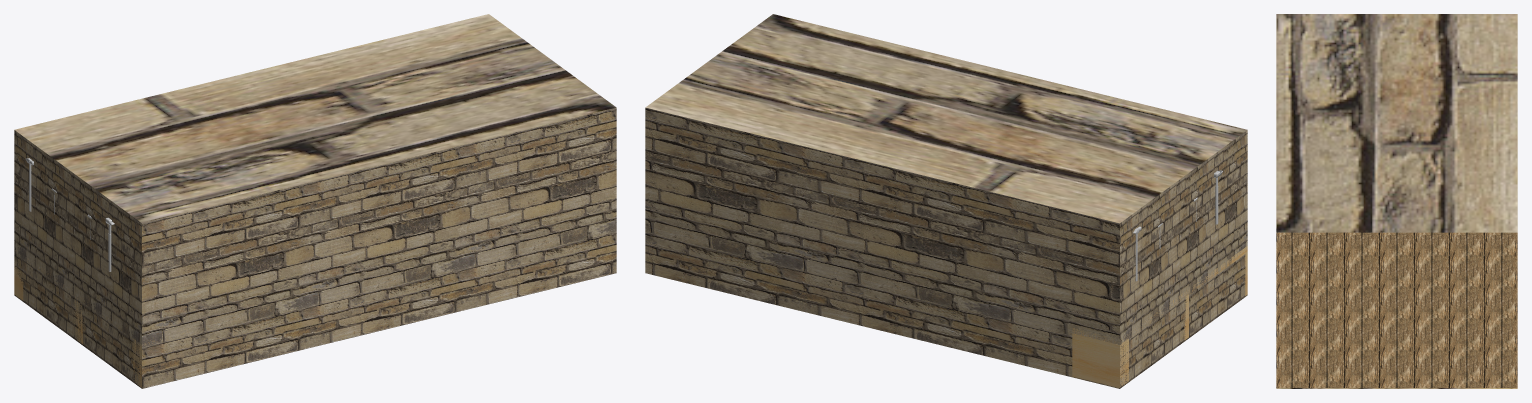
The model's file is Гараж изнутри 1.fbx.
3 views of the same model, side by side, from view 1: azimuth 30°, elevation 25°; view 2: azimuth 150°, elevation 25°; view 3: azimuth 270°, elevation 25° (orthographic). The views are drawn at different scales.
Parts seen in each view (by area): view 1: Cube; view 2: Cube, Куб.002, Куб; view 3: Cube, Плоскость, Плоскость.002.
Boxes of the visible parts, box(x1,y1,x2,y2) form: Cube: box(14, 14, 616, 388); Cube: box(645, 14, 1247, 388); Куб.002: box(1072, 333, 1128, 387); Куб: box(1072, 246, 1247, 343); Cube: box(1276, 14, 1517, 388); Плоскость: box(1276, 235, 1517, 387); Плоскость.002: box(1276, 232, 1517, 234).
Bounding box in the file's own units: 3018 × 1000 × 1400.
